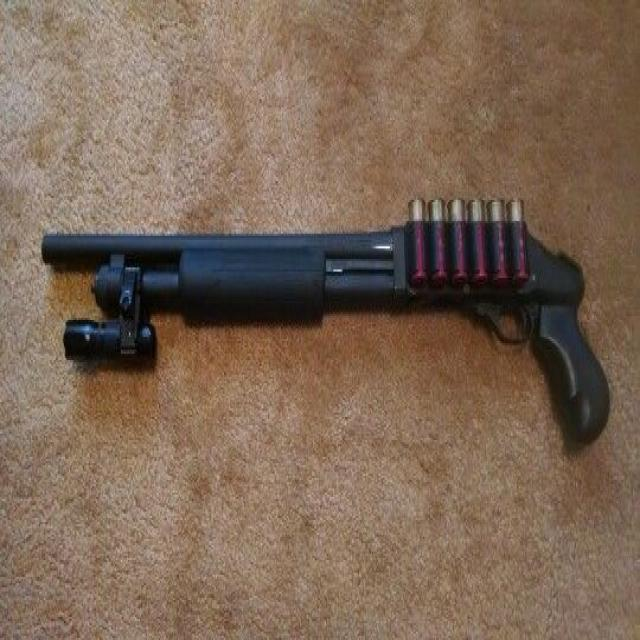shotgun: (29, 194, 616, 460)
